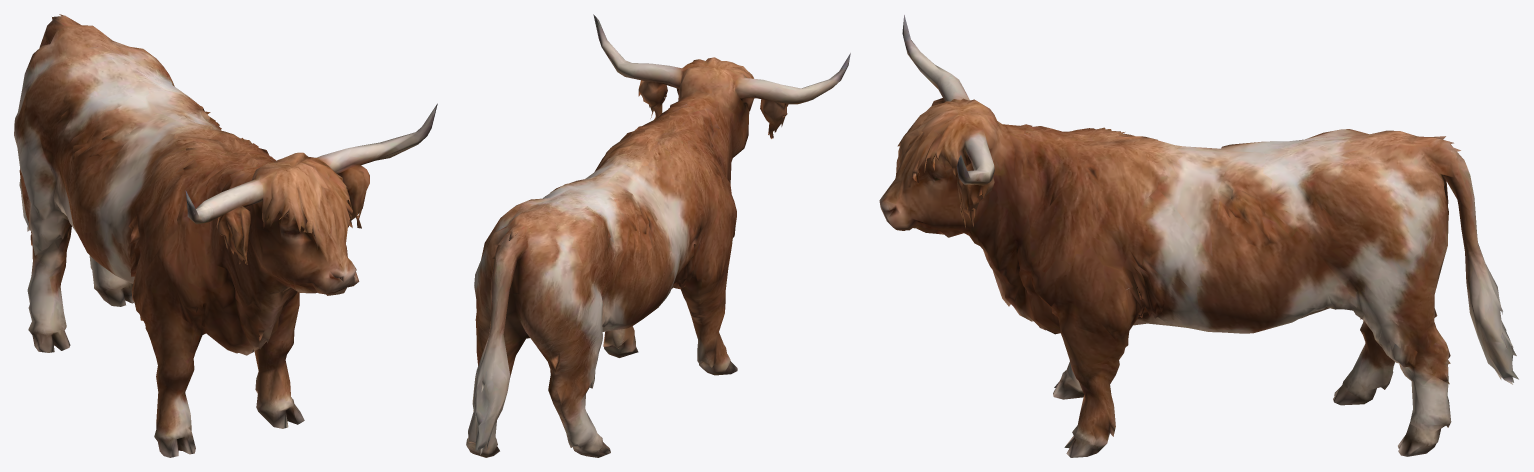
The model's file is animal_cow.glb.
The picture shows the model from 3 angles, left to right: view 1: azimuth 30°, elevation 25°; view 2: azimuth 150°, elevation 25°; view 3: azimuth 270°, elevation 25°; orthographic projection. The views are drawn at different scales.
Parts seen in each view (by area): view 1: tripo_node_836bb4b6-7842-4ef6-a3c3-10dcf92b4c50; view 2: tripo_node_836bb4b6-7842-4ef6-a3c3-10dcf92b4c50; view 3: tripo_node_836bb4b6-7842-4ef6-a3c3-10dcf92b4c50.
Part boxes in pixels (x1=…): tripo_node_836bb4b6-7842-4ef6-a3c3-10dcf92b4c50: x1=14, y1=14, x2=437, y2=457; tripo_node_836bb4b6-7842-4ef6-a3c3-10dcf92b4c50: x1=466, y1=14, x2=850, y2=457; tripo_node_836bb4b6-7842-4ef6-a3c3-10dcf92b4c50: x1=879, y1=15, x2=1518, y2=457.
Bounding box in the file's own units: 0.5008 × 0.5831 × 0.9785.
1 material, 1 textured.
